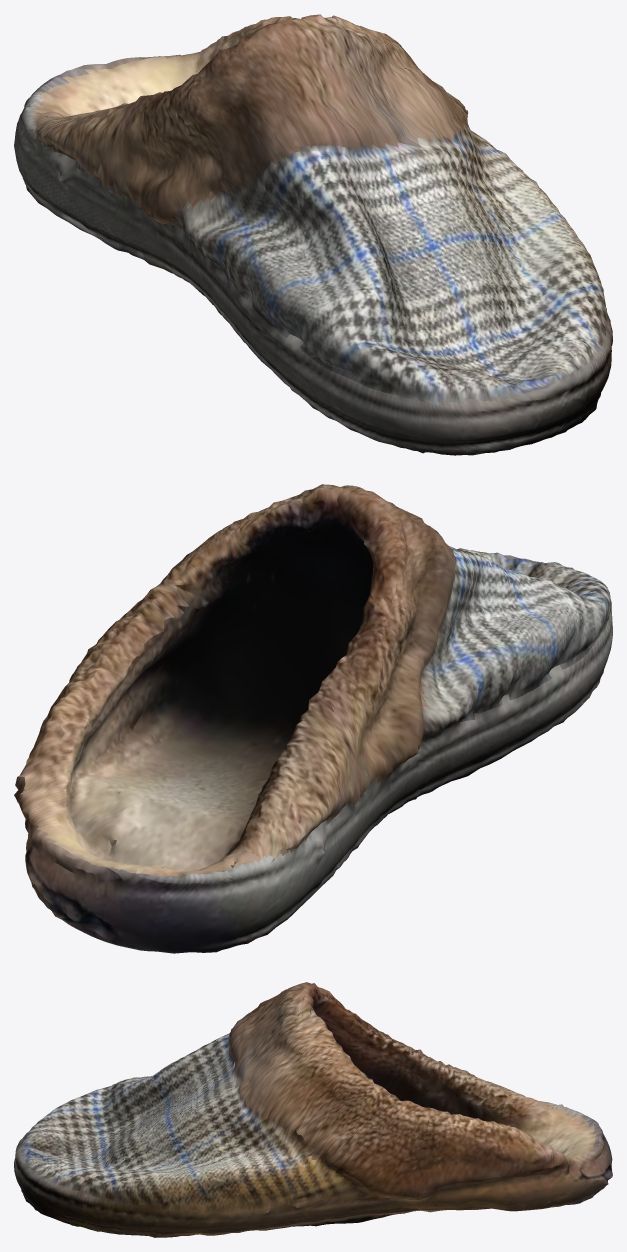
The model's file is worn-shoe.glb.
The picture shows the model from 3 angles, top to bottom: view 1: azimuth 30°, elevation 25°; view 2: azimuth 150°, elevation 25°; view 3: azimuth 270°, elevation 25°; orthographic projection. The views are drawn at different scales.
Parts seen in each view (by area): view 1: Object_0; view 2: Object_0; view 3: Object_0.
Part boxes in pixels (x1=…): Object_0: x1=14, y1=14, x2=612, y2=455; Object_0: x1=14, y1=484, x2=612, y2=953; Object_0: x1=14, y1=982, x2=612, y2=1237.
Size of the model in its own units: 0.1185 by 0.1053 by 0.29.
1 material, 1 textured.
